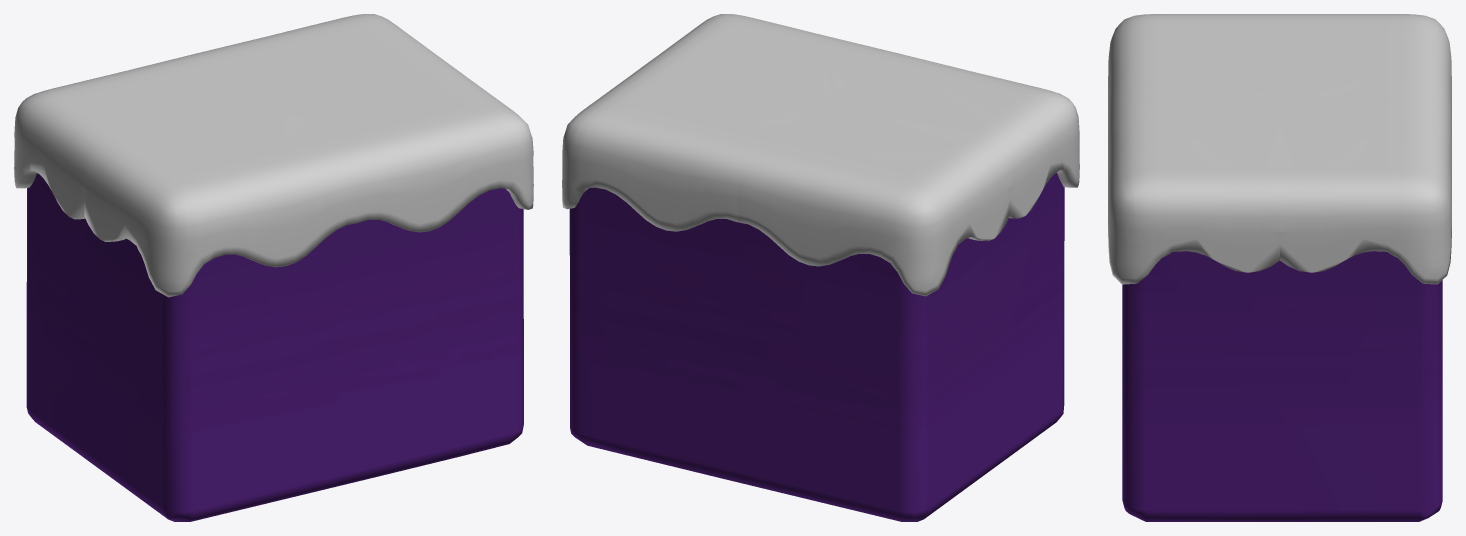
The model's file is GroundMini.fbx.
3 renders of one model, left to right at view 1: azimuth 30°, elevation 25°; view 2: azimuth 150°, elevation 25°; view 3: azimuth 270°, elevation 25°, orthographic. The views are drawn at different scales.
Parts seen in each view (by area): view 1: GroundMini; view 2: GroundMini; view 3: GroundMini.
Part boxes in pixels (left/top/right/bottom): GroundMini: left=14, top=14, right=533, bottom=521; GroundMini: left=562, top=14, right=1079, bottom=521; GroundMini: left=1108, top=14, right=1451, bottom=521.
Bounding box in the file's own units: 375 × 314 × 287.
